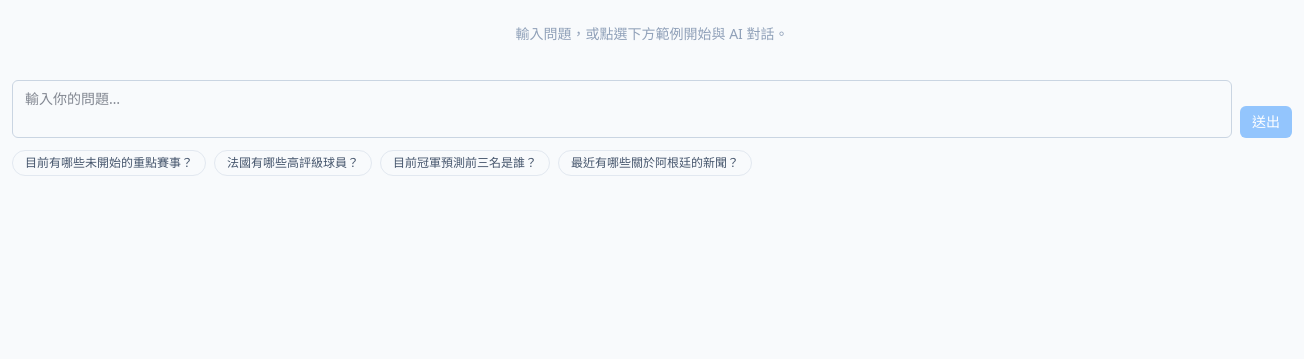
Scenario: GeneralFloatingChat › replays prior turns as history on the next question
Type "Mbappé 是誰？" into the text box named "輸入問題". click: (622,109)
box: [12,80,1232,138]
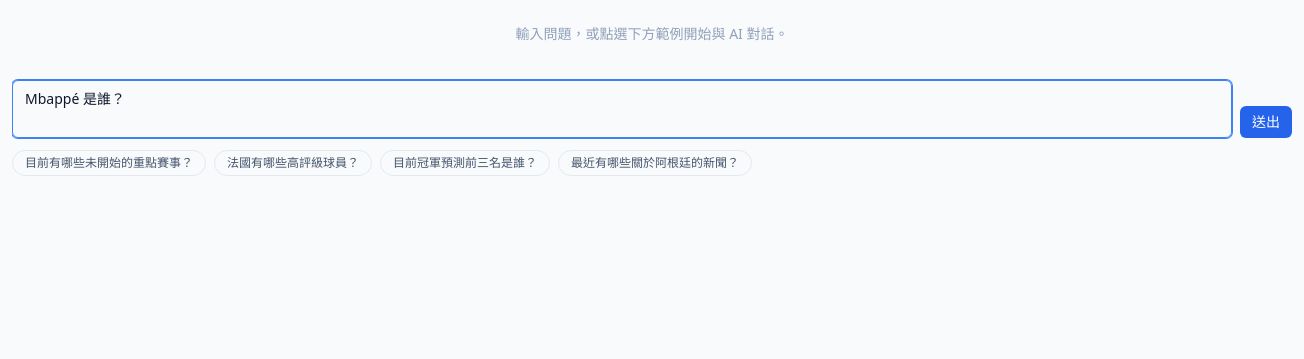
Click the button "送出". click: (1266,122)
box: [1240,106,1292,138]
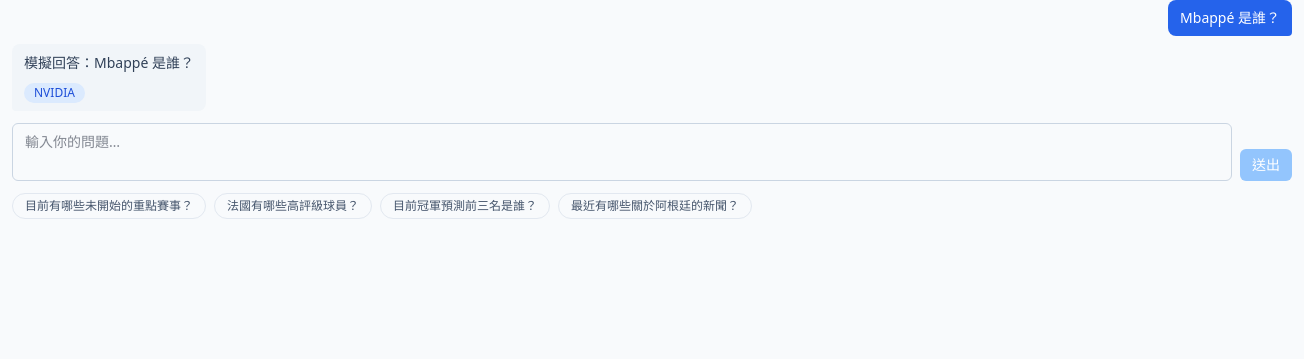
expect the text "模擬回答：Mbappé 是誰？" is shown: met, box [24,52,194,75]
Type "他最近狀態如何？" into the text box named "輸入問題". click: (622,152)
box: [12,123,1232,181]
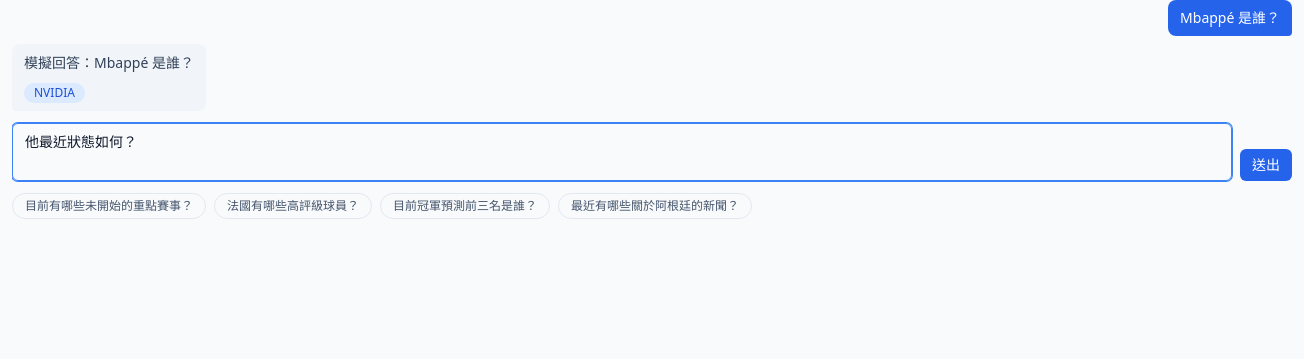
Click the button "送出". click: (1266,165)
box: [1240,149,1292,181]
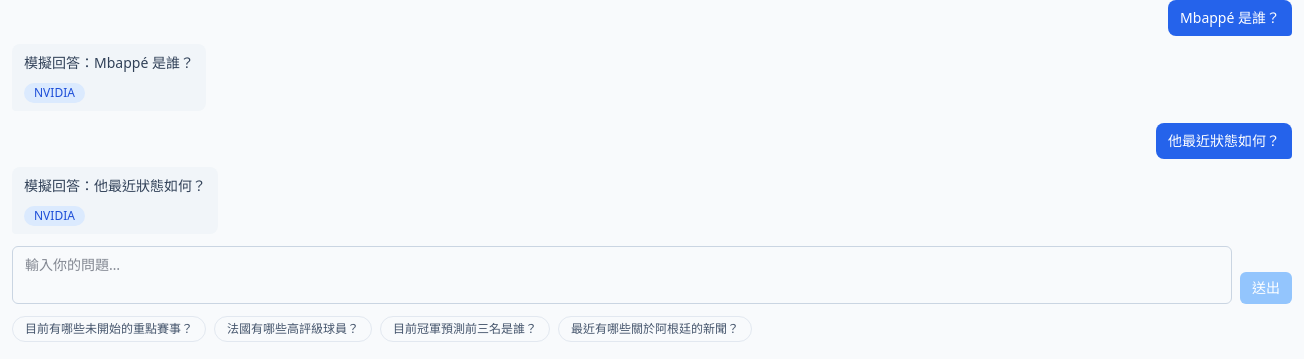
expect the text "模擬回答：他最近狀態如何？" is shown: met, box [24,175,206,198]
expect the text "他最近狀態如何？" is shown: met, box [1156,123,1292,159]
